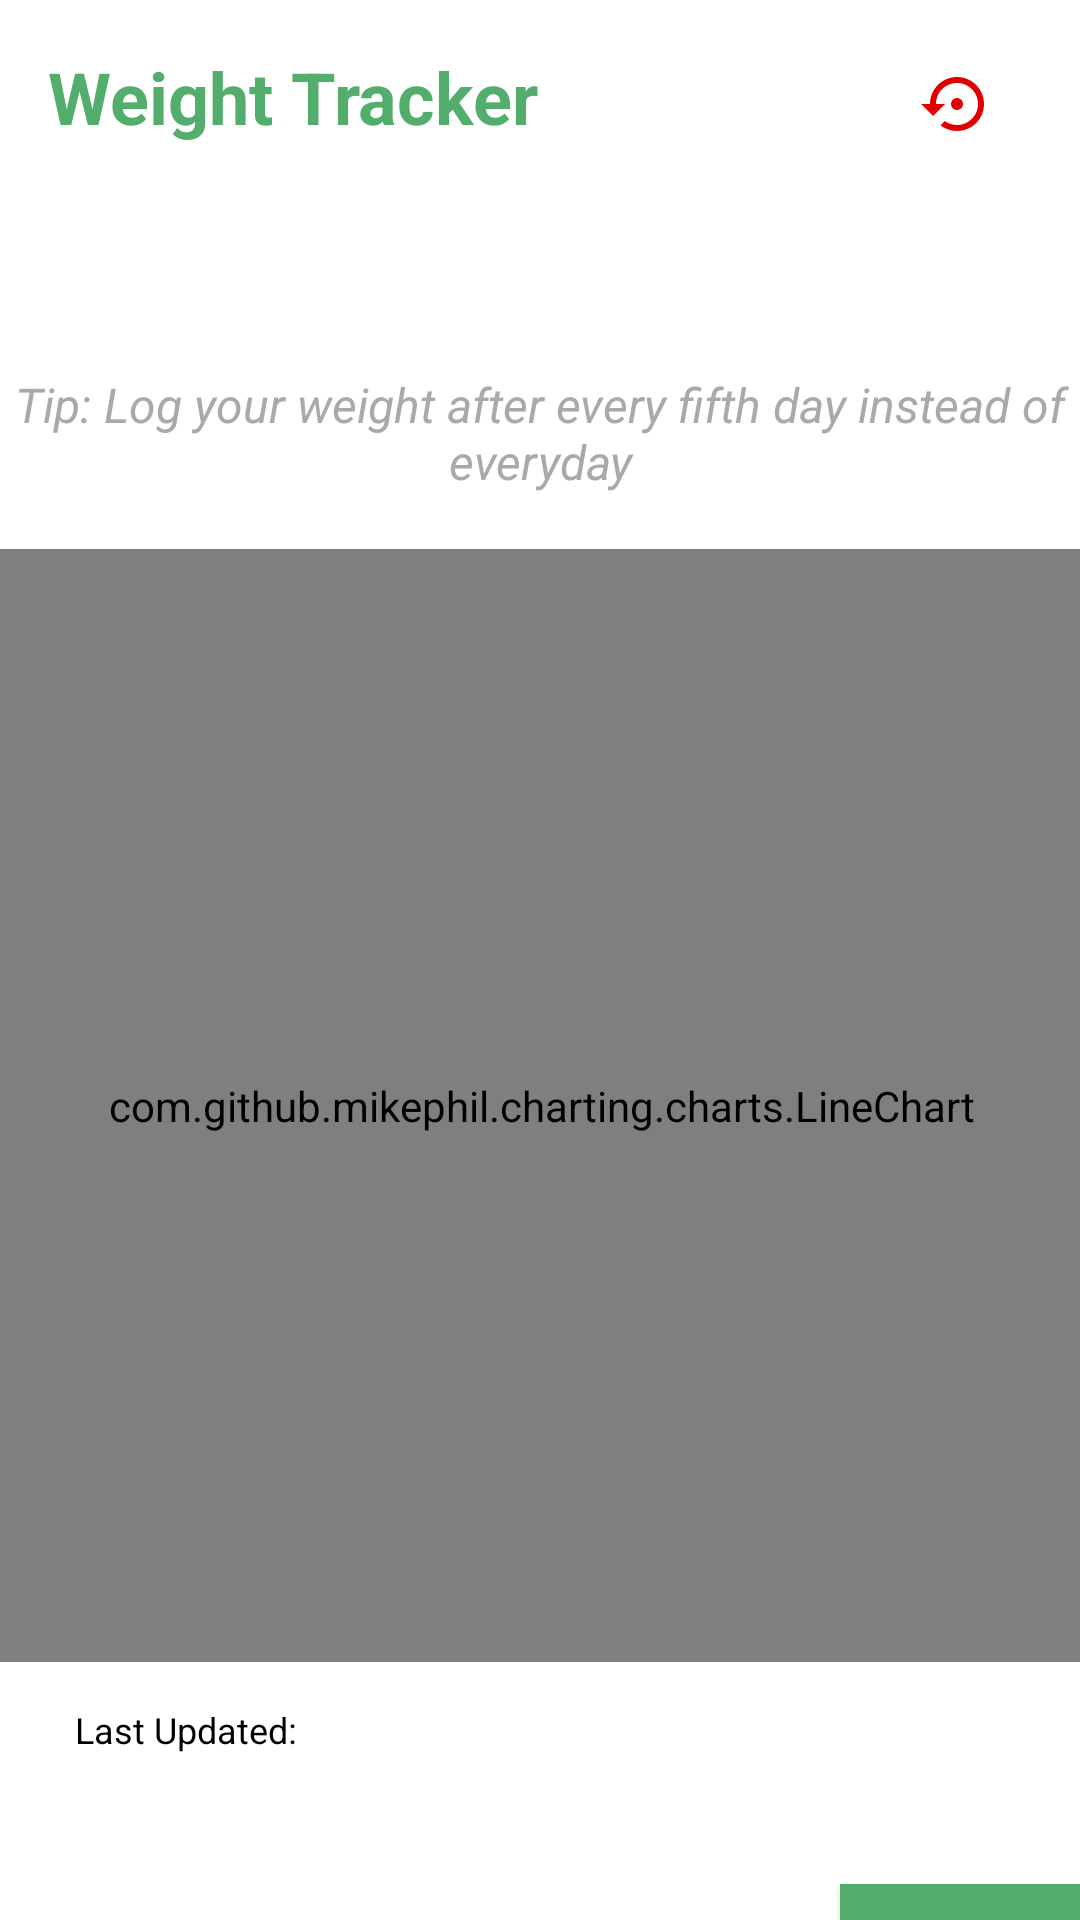

Point at icon controls on the screen. Image size 1080 x 1920, points as (x=x, y=y).
reset: (x=952, y=104)
